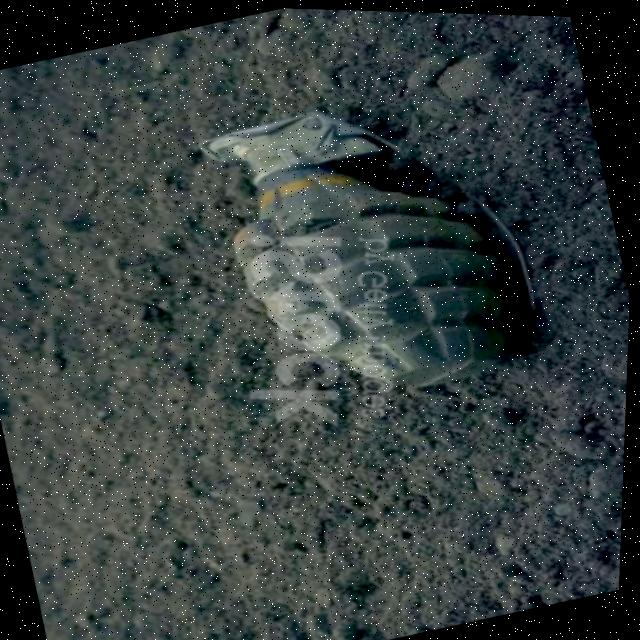grenade: (122, 25, 614, 474)
